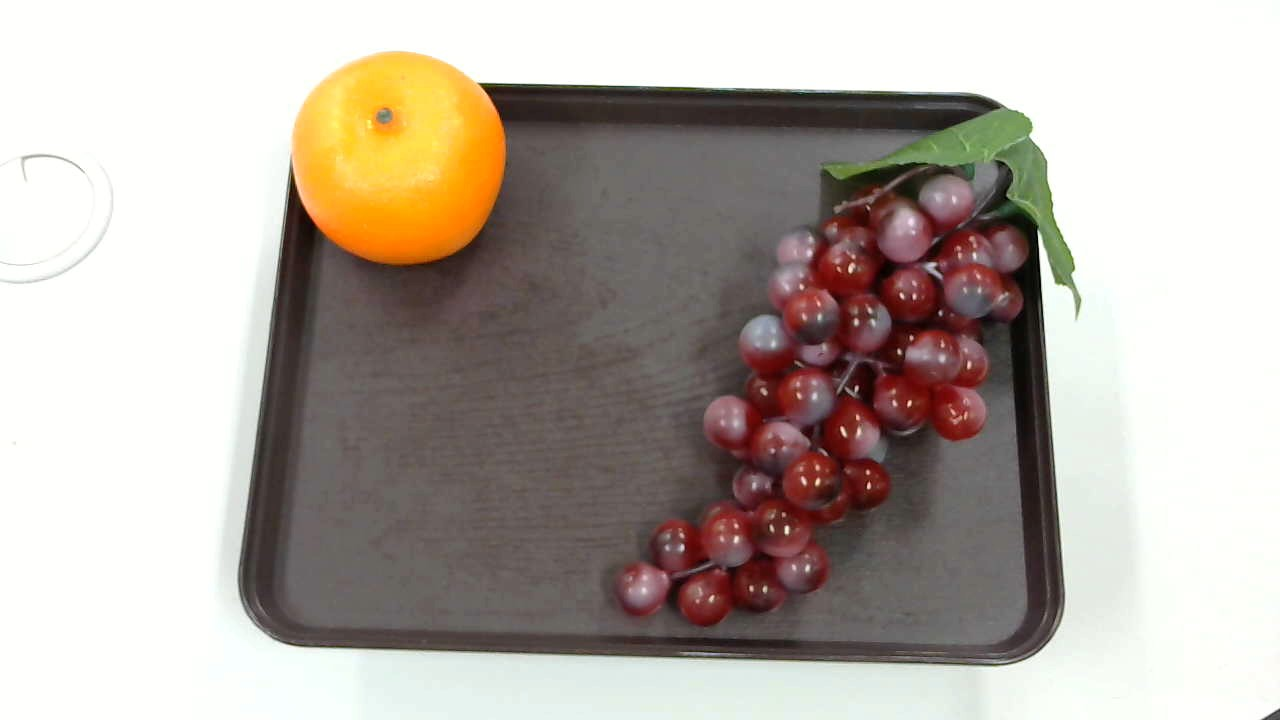grape: (613, 105, 1088, 629)
orange: (286, 52, 512, 273)
